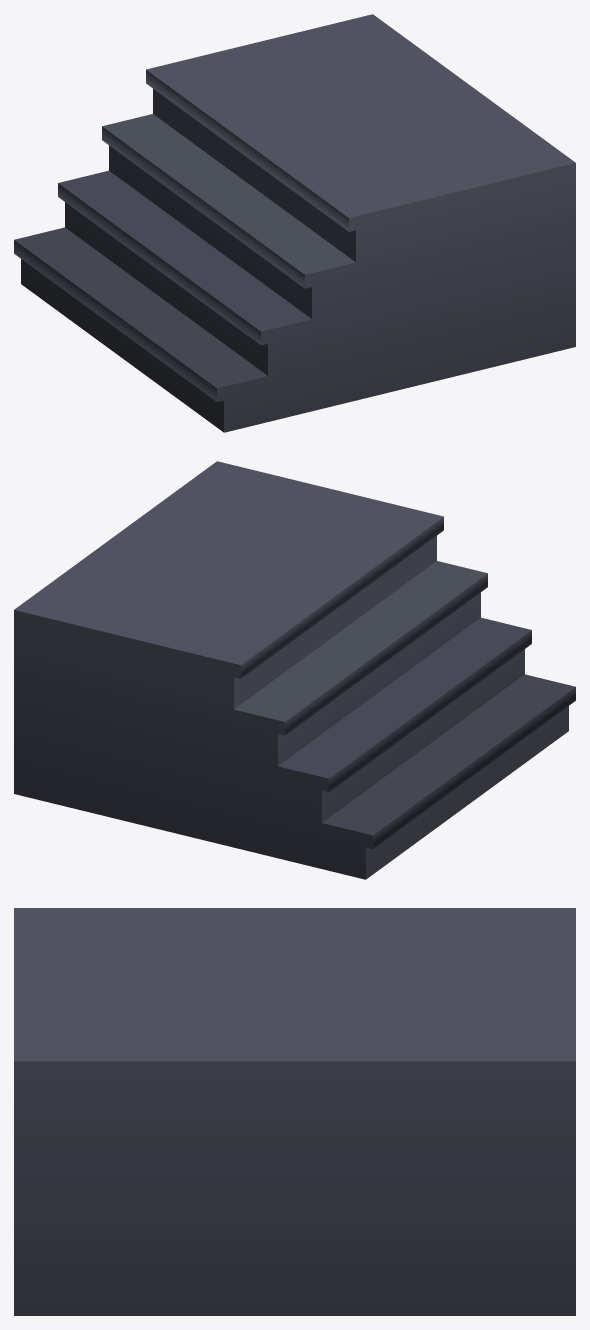
The model's file is stairs-full.glb.
3 views of the same model, one above another, from view 1: azimuth 30°, elevation 25°; view 2: azimuth 150°, elevation 25°; view 3: azimuth 270°, elevation 25° (orthographic). The views are drawn at different scales.
Parts seen in each view (by area): view 1: stairs-full; view 2: stairs-full; view 3: stairs-full.
Part boxes in pixels (box(x1,y1,x2,y2)): stairs-full: box(14, 14, 575, 432); stairs-full: box(14, 461, 575, 879); stairs-full: box(14, 908, 575, 1315).
Size of the model in its own units: 1.02 by 0.5 by 1.
Materials: 1 (1 with a texture image).
